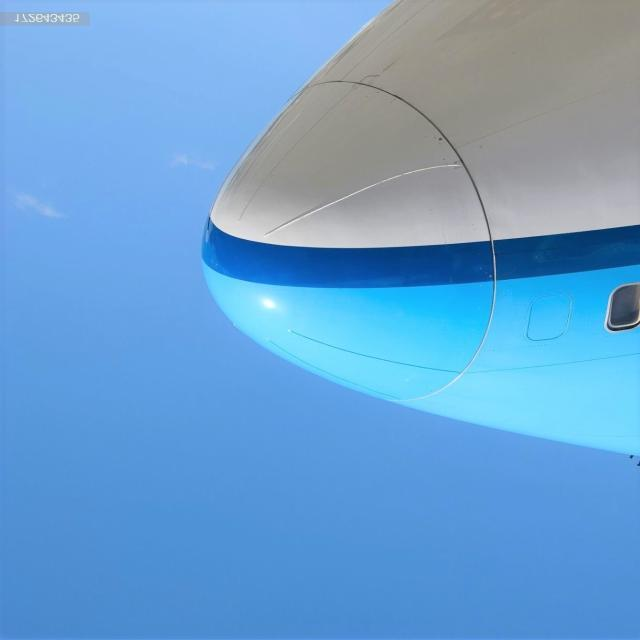crack: (350, 74, 393, 87)
